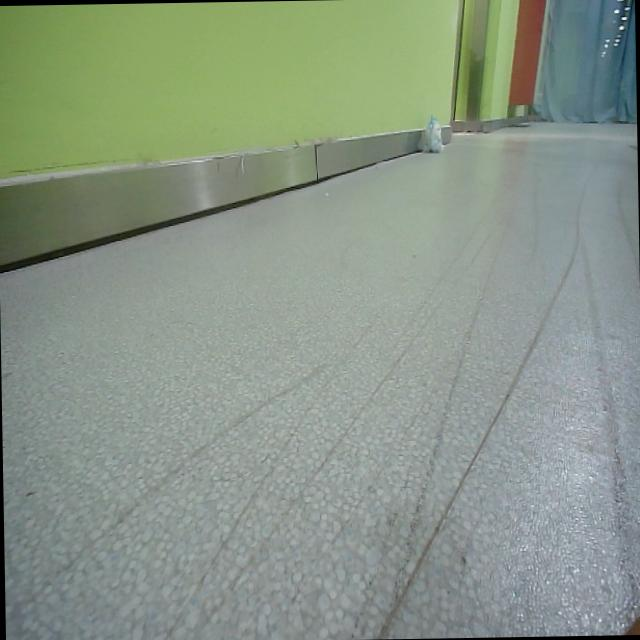xiaoba: (424, 115, 446, 158)
